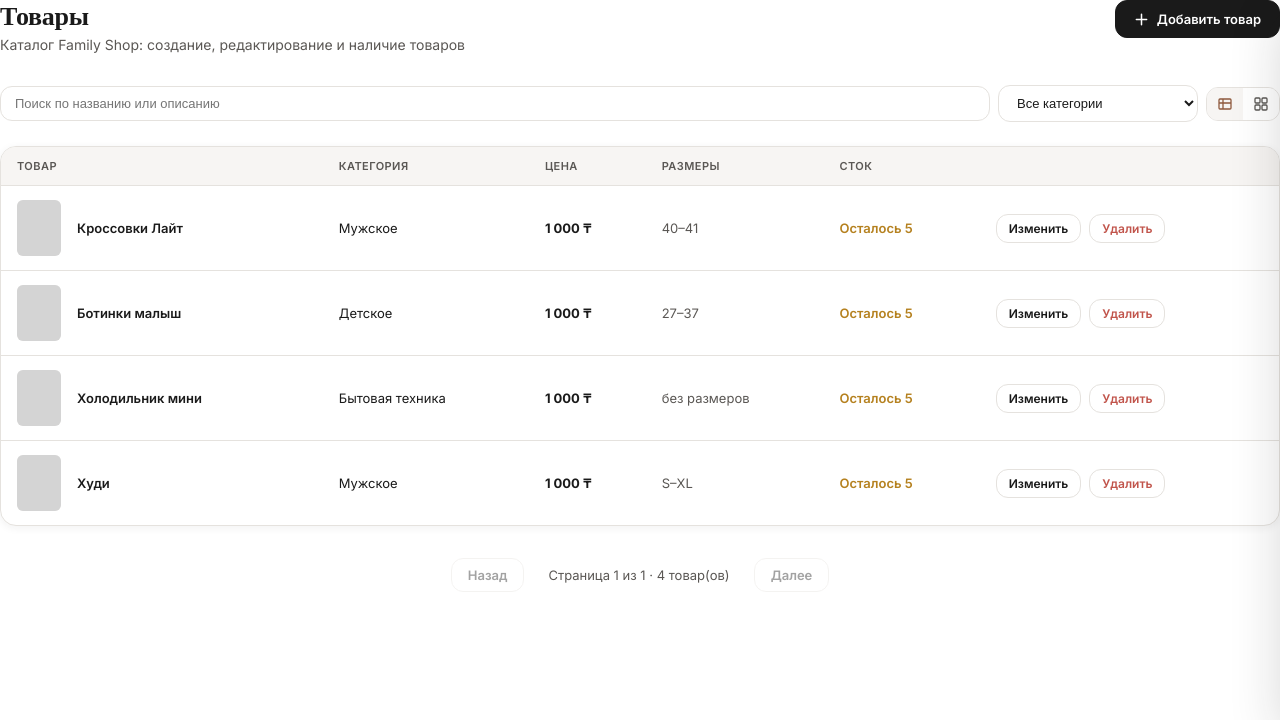
it: product form - sizes › kids shoes use the children's grid 27-37 (all ticked when the product has no custom selection)
Click the button "Изменить" in the row of "Ботинки малыш" at (1038, 313), box [996,298,1081,328]
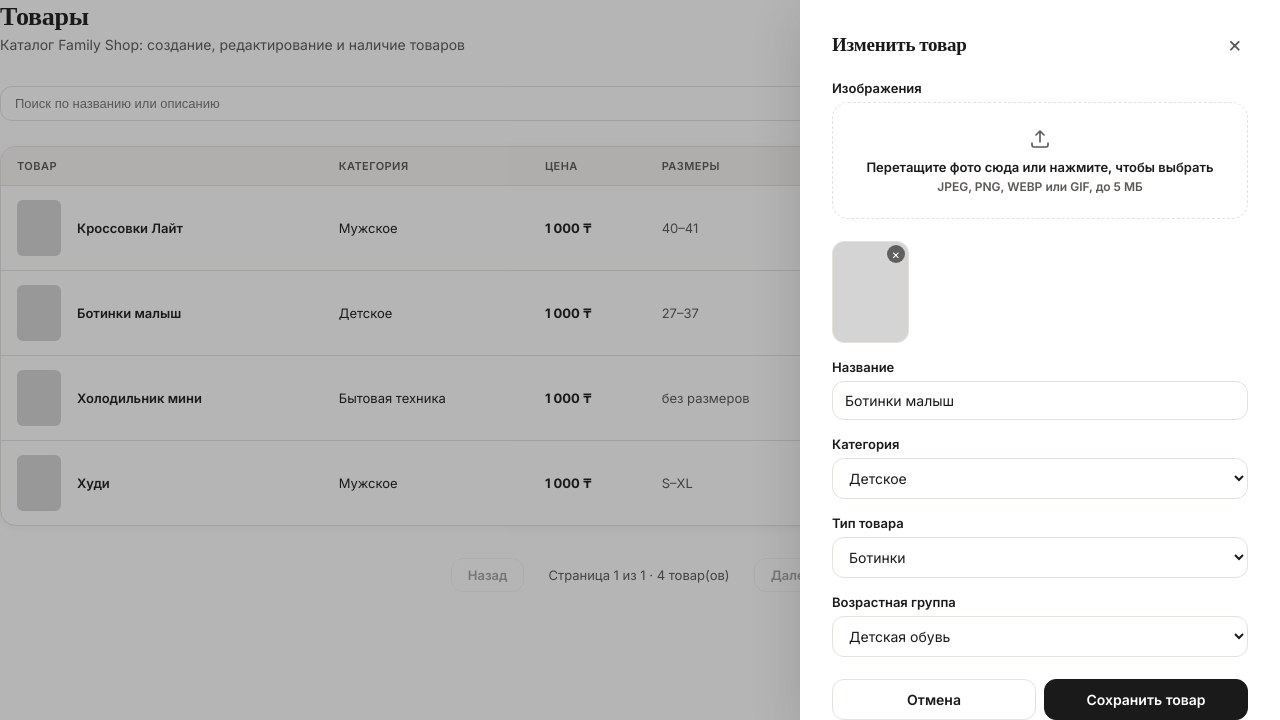
Now the dropdown labelled "Возрастная группа" shows "Детская обувь", box [832,616,1248,657]
